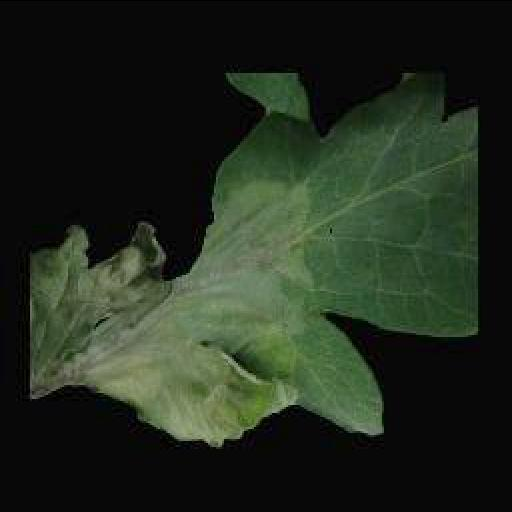disease_tomato: (26, 70, 476, 444)
